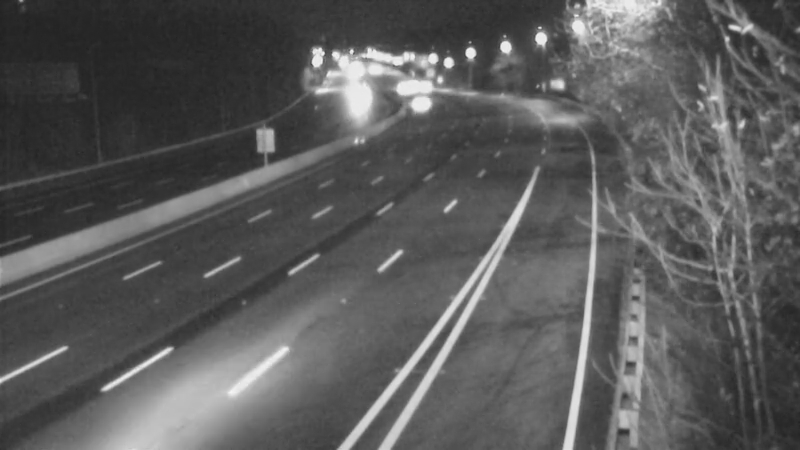vehicle: (398, 63, 448, 113), (394, 77, 444, 127), (332, 73, 382, 123)
